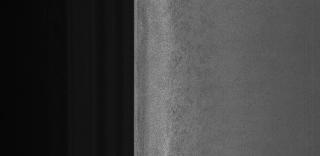silk spot: (161, 7, 205, 134)
